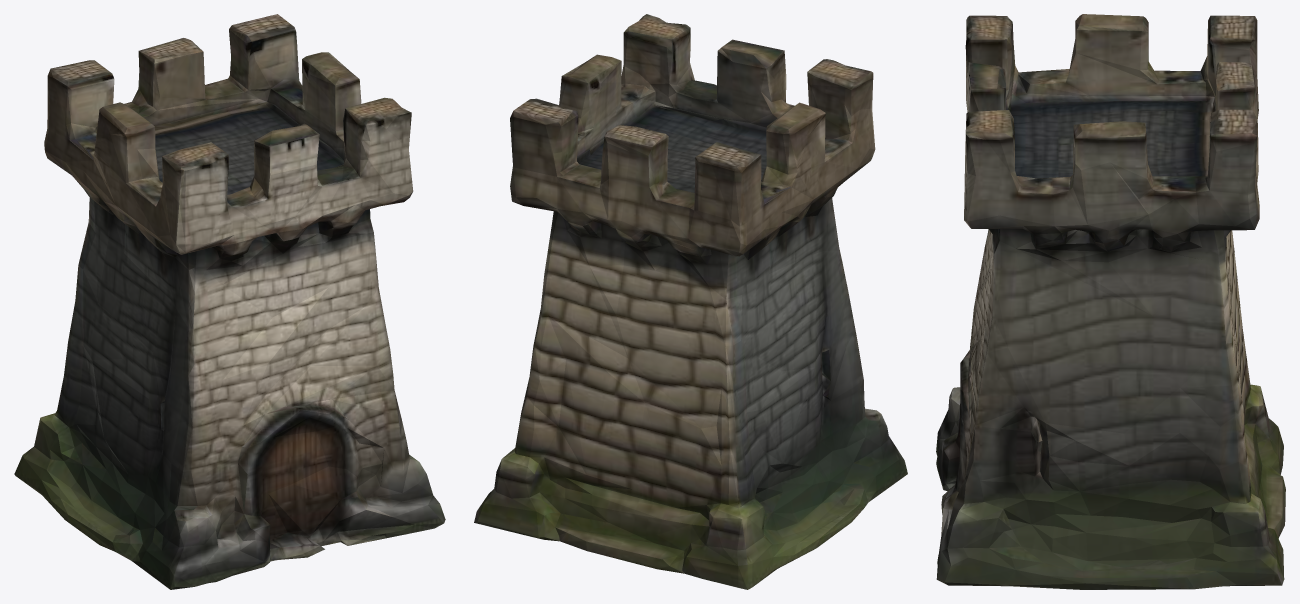
The model's file is watchtower_stone_small_lod1.glb.
3 renders of one model, left to right at view 1: azimuth 30°, elevation 25°; view 2: azimuth 150°, elevation 25°; view 3: azimuth 270°, elevation 25°, orthographic. The views are drawn at different scales.
Parts seen in each view (by area): view 1: watchtower_stone_small_lod1; view 2: watchtower_stone_small_lod1; view 3: watchtower_stone_small_lod1.
Part boxes in pixels (<box>): watchtower_stone_small_lod1: <box>14,14,445,589</box>; watchtower_stone_small_lod1: <box>474,14,907,589</box>; watchtower_stone_small_lod1: <box>936,14,1285,589</box>.
Bounding box in the file's own units: 6.68 × 9.01 × 6.46.
Materials: 1 (1 with a texture image).
